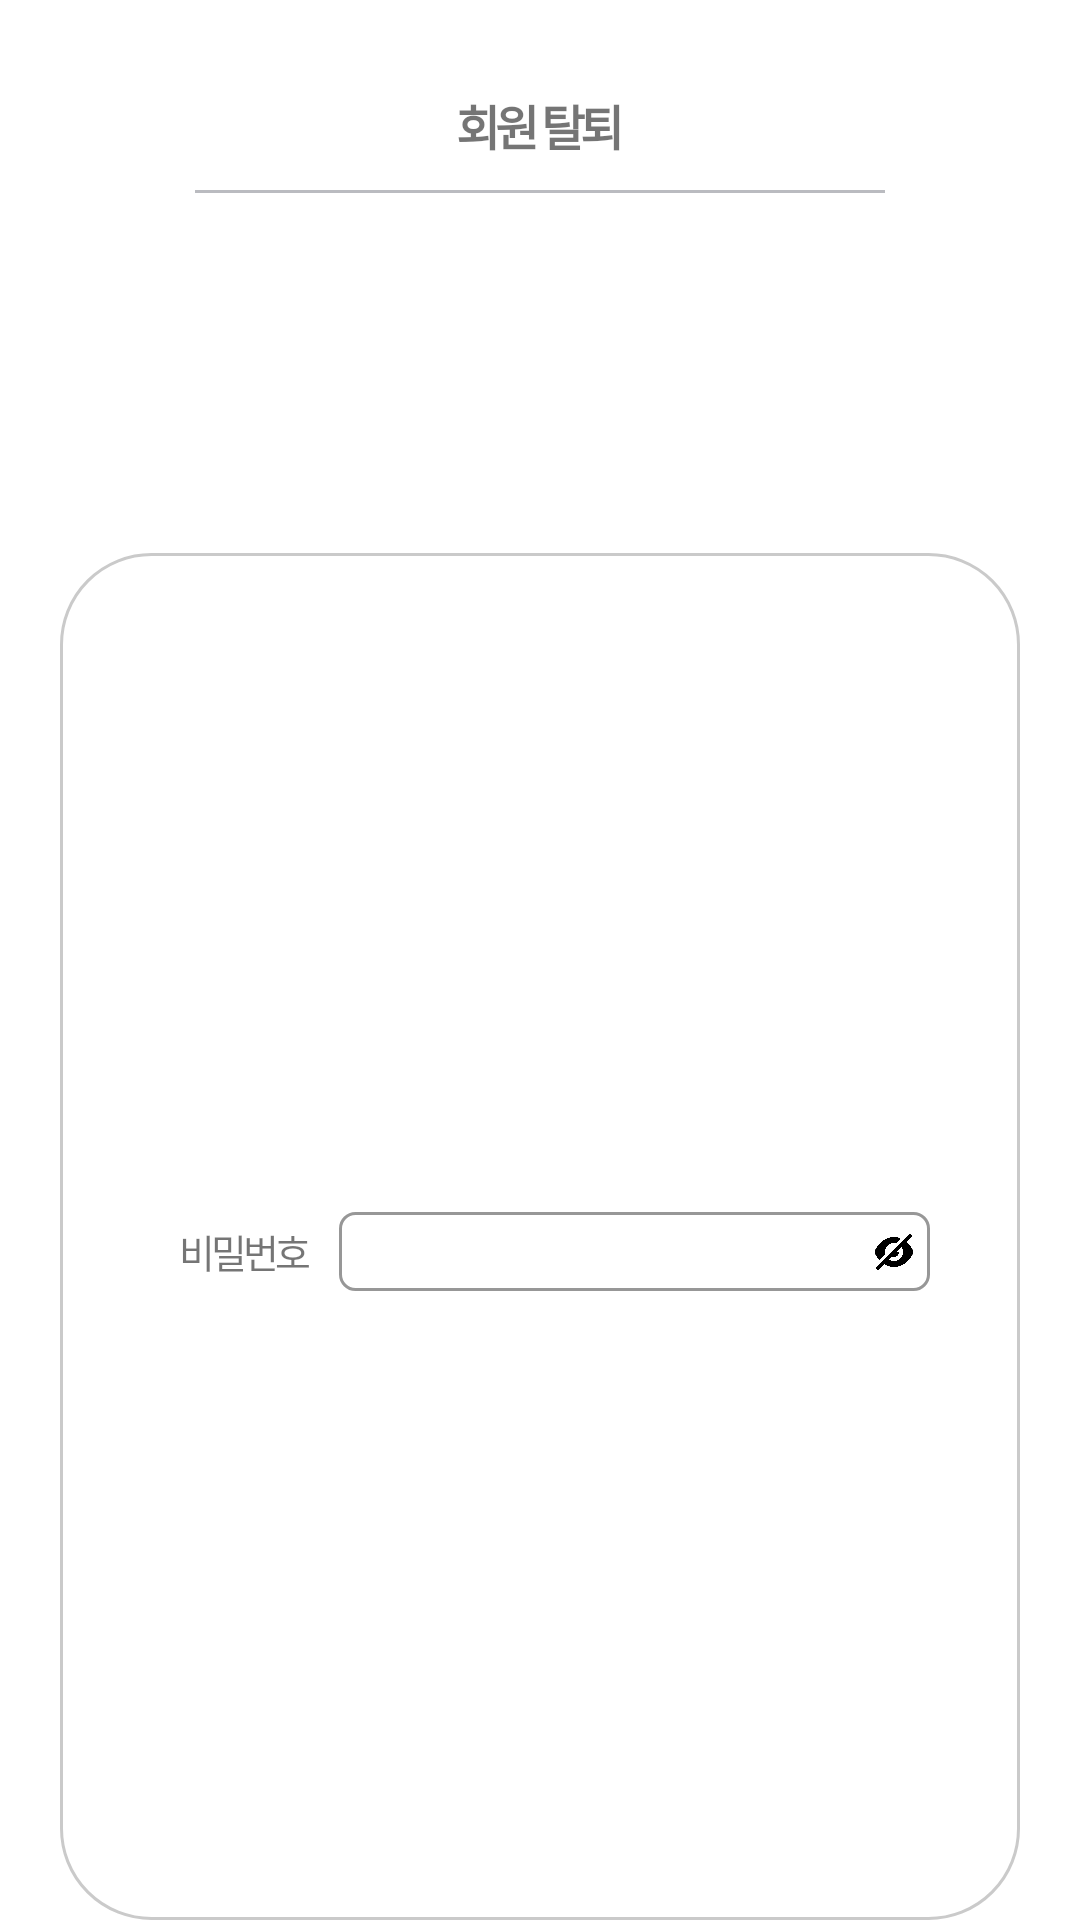

Named icons in this screenshot (1080 × 1920) and their bounding boxes, bbox=[x1, y1, x2, y2]:
eye hide: bbox=[875, 1234, 913, 1270]
